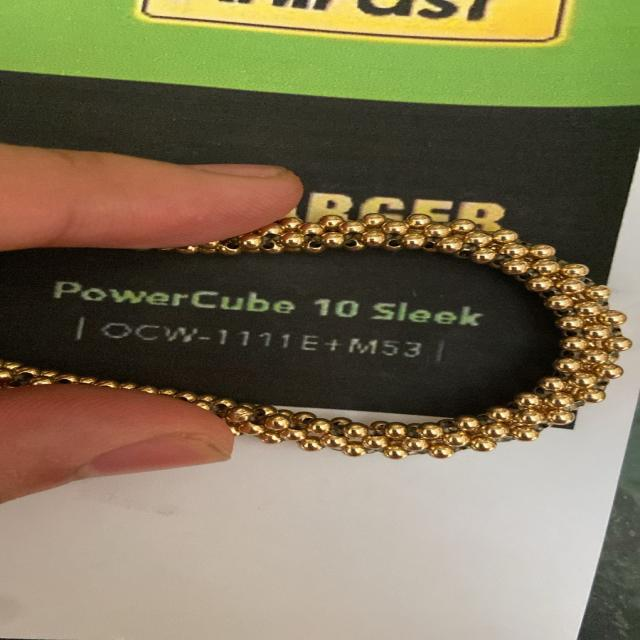PowerCube 10 Sleek OCW-1111ExM53: (47, 270, 508, 367)
